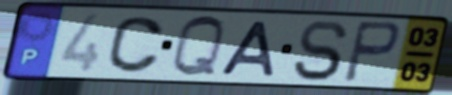4: (57, 12, 103, 75)
A: (216, 19, 277, 78)
C: (104, 14, 167, 75)
P: (340, 19, 403, 85)
Q: (169, 13, 228, 80)
S: (289, 18, 352, 83)
